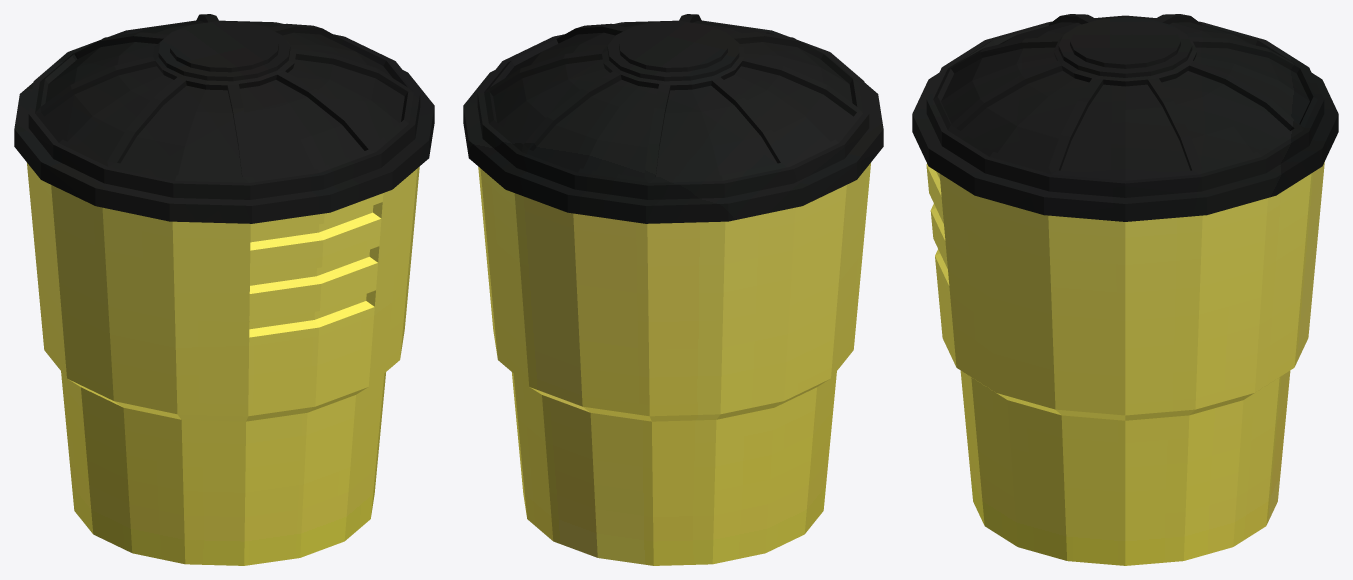
Rendered from Highway_Segment_TrafficBarrier03.fbx.
3 views of the same model, side by side, from view 1: azimuth 30°, elevation 25°; view 2: azimuth 150°, elevation 25°; view 3: azimuth 270°, elevation 25° (orthographic).
Parts seen in each view (by area): view 1: SM_City_Highway_TrafficBarrier_01b.mo; view 2: SM_City_Highway_TrafficBarrier_01b.mo; view 3: SM_City_Highway_TrafficBarrier_01b.mo.
Part boxes in pixels (bbox=[...]): SM_City_Highway_TrafficBarrier_01b.mo: bbox=[14, 14, 434, 565]; SM_City_Highway_TrafficBarrier_01b.mo: bbox=[463, 14, 883, 565]; SM_City_Highway_TrafficBarrier_01b.mo: bbox=[912, 14, 1338, 565].
Size of the model in its own units: 132 by 157 by 132.
